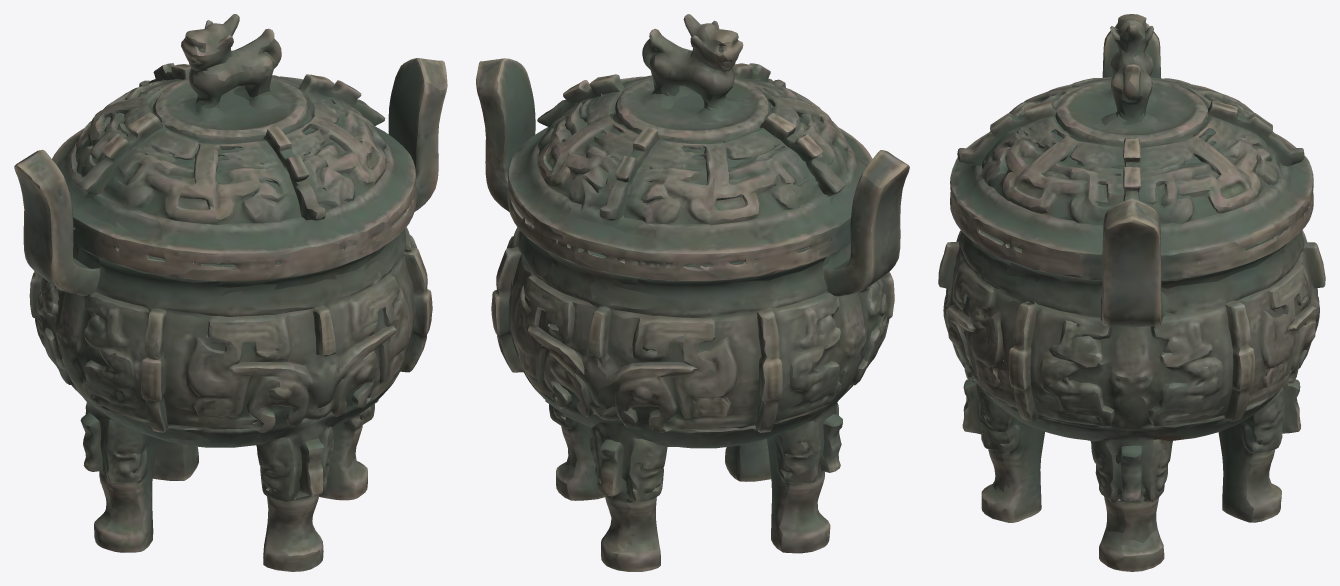
Rendered from incense_real_opt.glb.
3 views of the same model, side by side, from view 1: azimuth 30°, elevation 25°; view 2: azimuth 150°, elevation 25°; view 3: azimuth 270°, elevation 25° (orthographic). The views are drawn at different scales.
Visible parts, largest first — view 1: geometry_0; view 2: geometry_0; view 3: geometry_0.
Part boxes in pixels (left/top/right/bottom): geometry_0: left=14, top=14, right=447, bottom=571; geometry_0: left=476, top=14, right=909, bottom=571; geometry_0: left=938, top=14, right=1325, bottom=571.
Size of the model in its own units: 0.3132 by 0.35 by 0.2517.
1 material, 1 textured.
